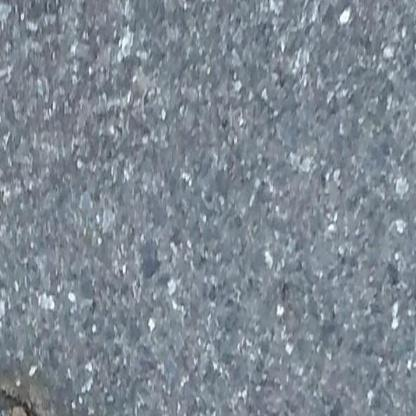Cracks: (0, 370, 95, 416)
